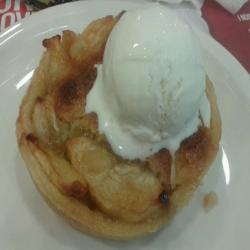apple_pie: (16, 13, 236, 245)
icecream: (98, 2, 207, 155)
